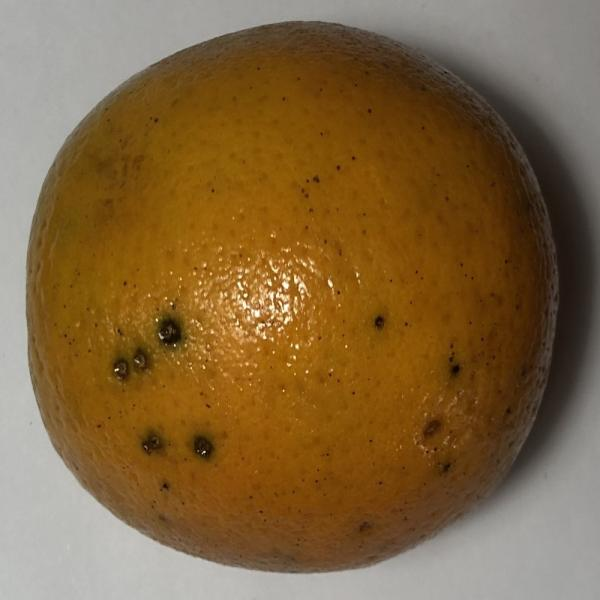Machas negras: (0, 0, 560, 586)
